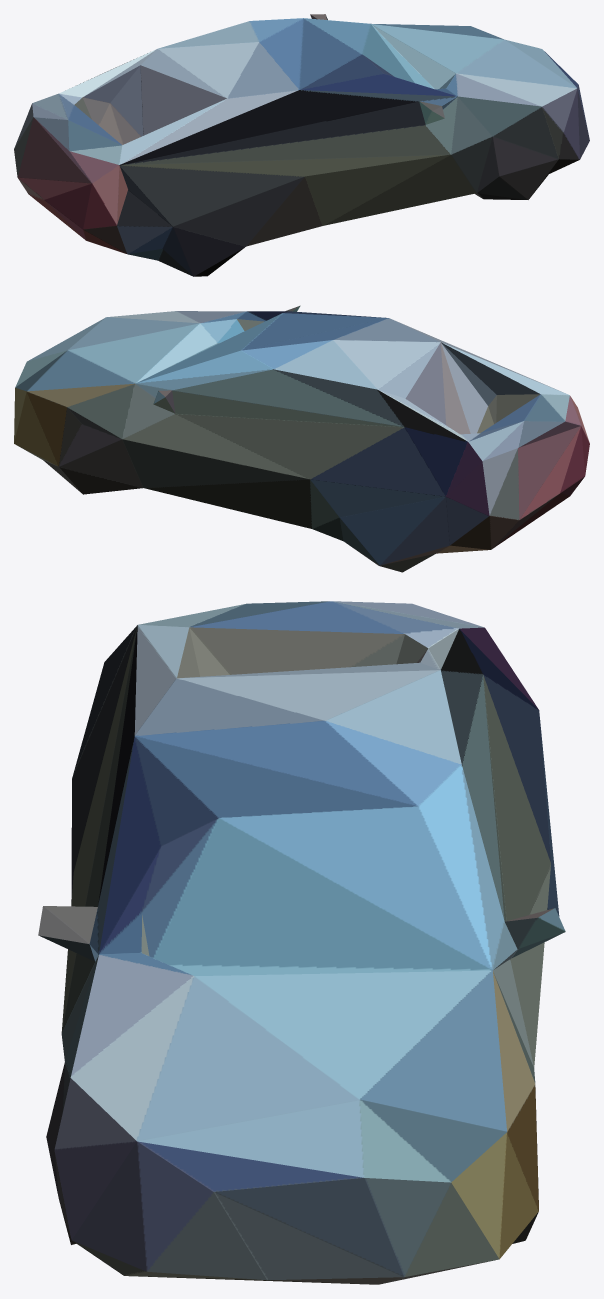
The model's file is car.fbx.
3 views of the same model, one above another, from view 1: azimuth 30°, elevation 25°; view 2: azimuth 150°, elevation 25°; view 3: azimuth 270°, elevation 25° (orthographic). The views are drawn at different scales.
Visible parts, largest first — view 1: Mesh_0; view 2: Mesh_0; view 3: Mesh_0.
Part boxes in pixels (bbox=[...]): Mesh_0: bbox=[14, 14, 589, 276]; Mesh_0: bbox=[14, 305, 589, 572]; Mesh_0: bbox=[38, 601, 565, 1284].
Size of the model in its own units: 120 by 36.45 by 52.68.
Materials: 1 (1 with a texture image).
